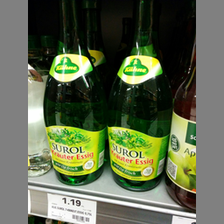vinegar: (43, 1, 108, 186), (110, 2, 172, 193)
